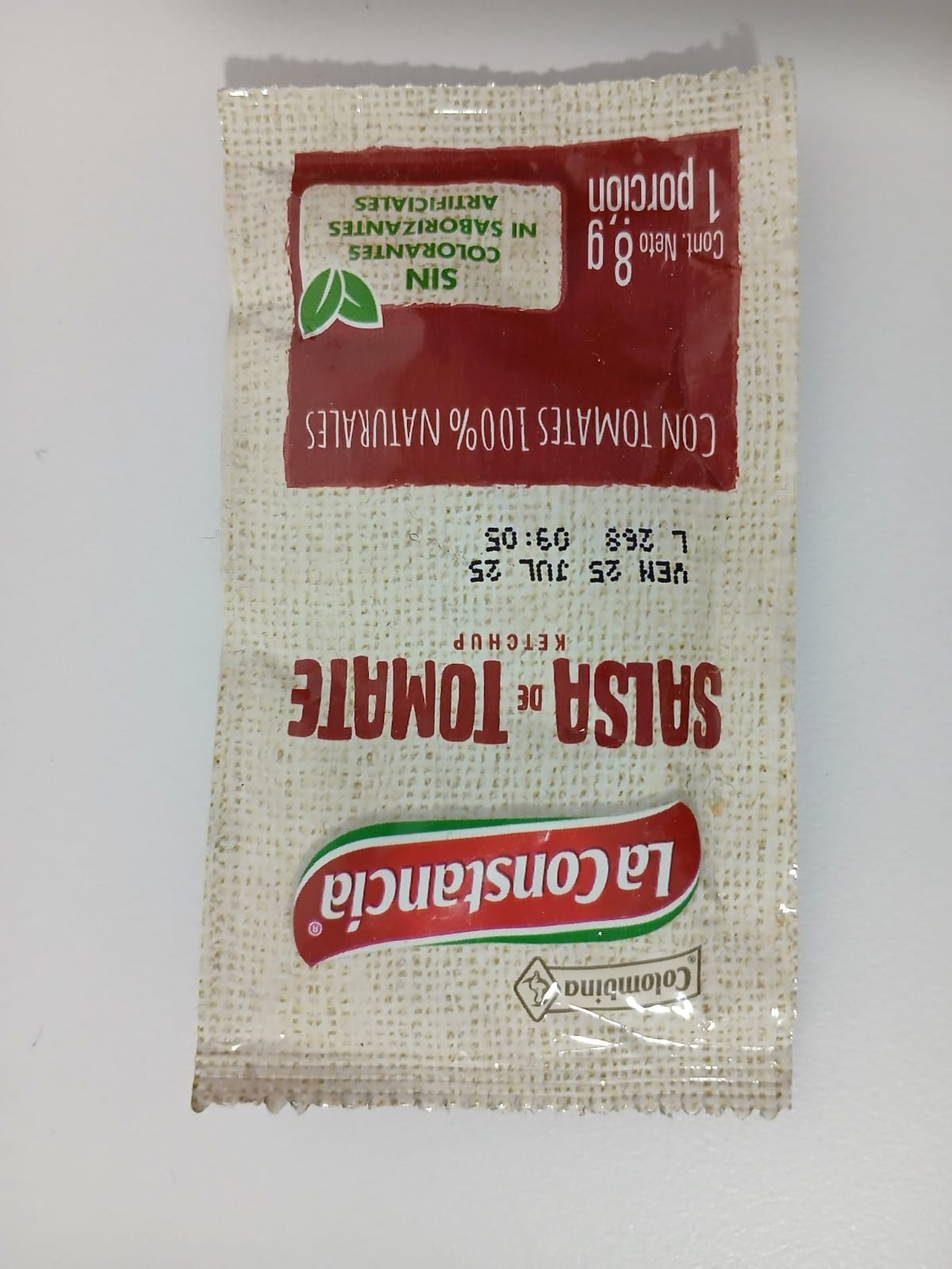Ordinario: (186, 60, 802, 1119)
